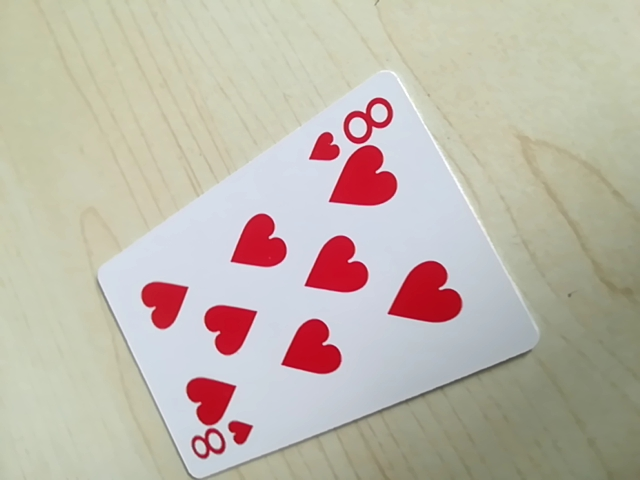hx 8: (309, 92, 398, 158), (185, 418, 257, 469)
